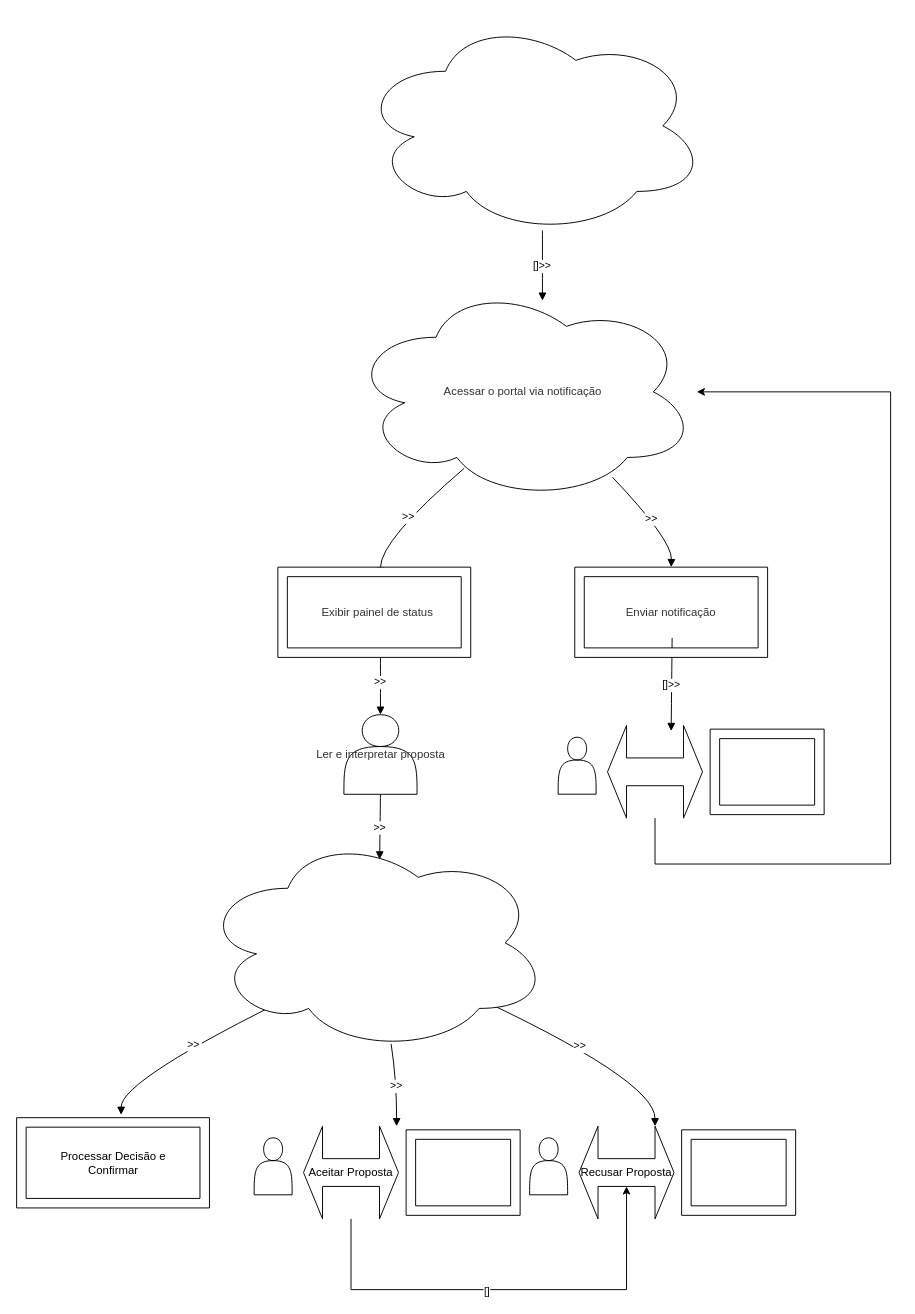
Some shapes in this 915 by 1314 pixel diagram are drawn without their labels. Here are the shapes that lost their labels. From the top down, the box of each, then its label:
(358, 16, 706, 235): Acompanhar reclamação e decidir sobre proposta
(607, 725, 703, 818): Clicar na notificação
(200, 833, 549, 1052): Decidir sobre a Proposta
